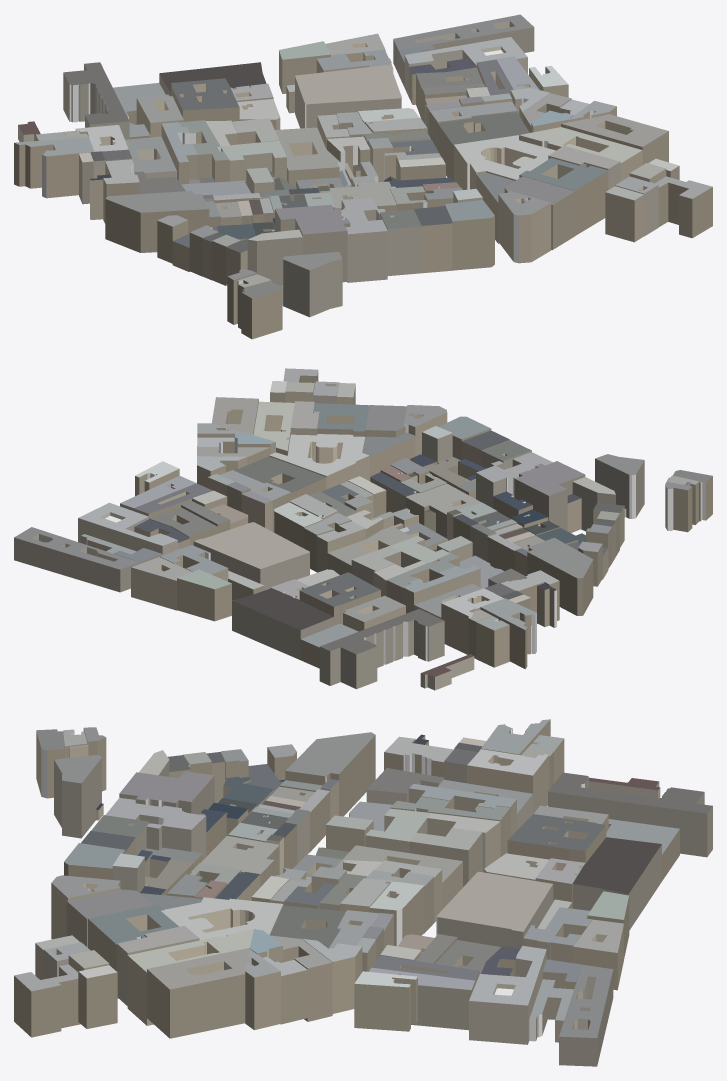
3 views of the same model, one above another, from view 1: azimuth 30°, elevation 25°; view 2: azimuth 150°, elevation 25°; view 3: azimuth 270°, elevation 25° (orthographic). The views are drawn at different scales.
Visible parts, largest first — view 1: tuile; view 2: tuile; view 3: tuile.
Part boxes in pixels (x1,y1,x2,y2): tuile: (14,14,712,339); tuile: (14,368,712,690); tuile: (14,719,712,1066).
Bounding box in the file's own units: 299 × 32.31 × 293.
